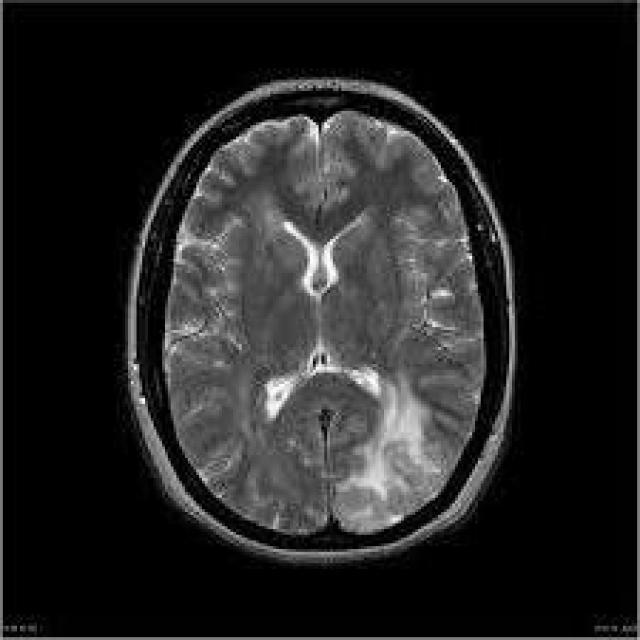notumor: (122, 80, 521, 572)
